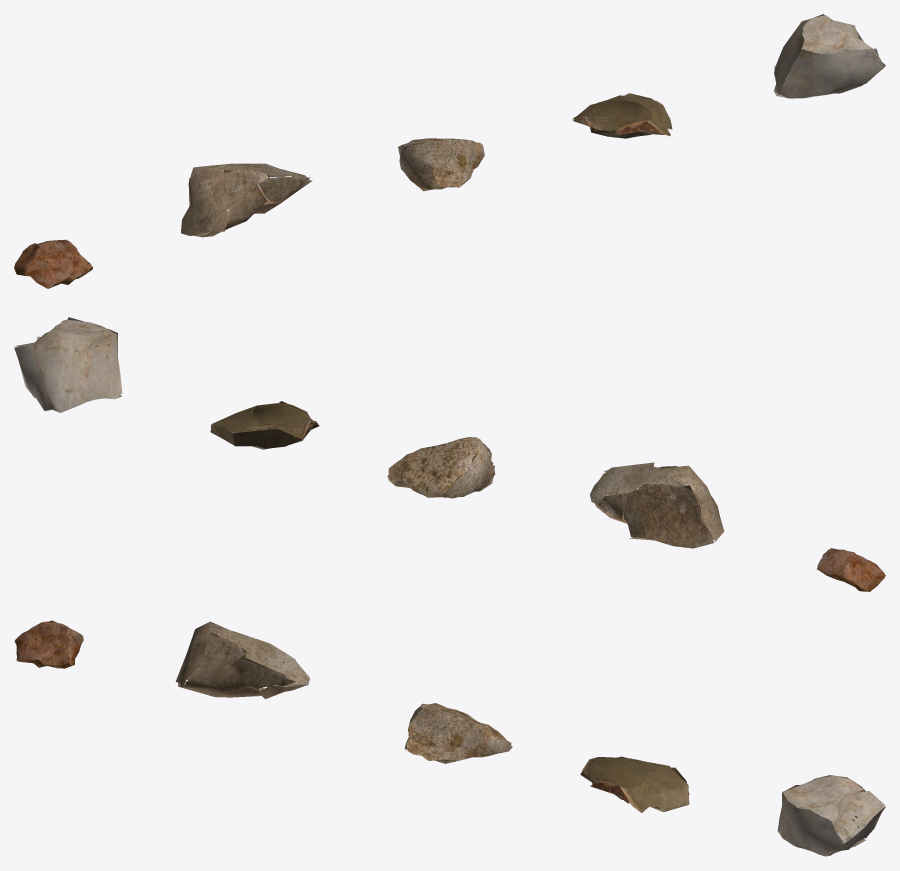
File: namaqualand_stones_01_lod1.glb
3 views of the same model, one above another, from view 1: azimuth 30°, elevation 25°; view 2: azimuth 150°, elevation 25°; view 3: azimuth 330°, elevation 25° (orthographic).
Visible parts, largest first — view 1: namaqualand_stones_01_e, namaqualand_stones_01_b, namaqualand_stones_01_c, namaqualand_stones_01_d, namaqualand_stones_01_a; view 2: namaqualand_stones_01_b, namaqualand_stones_01_e, namaqualand_stones_01_c, namaqualand_stones_01_d, namaqualand_stones_01_a; view 3: namaqualand_stones_01_b, namaqualand_stones_01_e, namaqualand_stones_01_c, namaqualand_stones_01_d, namaqualand_stones_01_a.
Part boxes in pixels (<box>): namaqualand_stones_01_e: <box>773,14,885,98</box>; namaqualand_stones_01_b: <box>181,163,312,237</box>; namaqualand_stones_01_c: <box>398,138,484,191</box>; namaqualand_stones_01_d: <box>572,93,672,138</box>; namaqualand_stones_01_a: <box>14,239,92,288</box>; namaqualand_stones_01_b: <box>590,462,724,548</box>; namaqualand_stones_01_e: <box>14,317,122,412</box>; namaqualand_stones_01_c: <box>387,437,495,498</box>; namaqualand_stones_01_d: <box>210,401,319,449</box>; namaqualand_stones_01_a: <box>816,548,885,591</box>; namaqualand_stones_01_b: <box>175,621,309,699</box>; namaqualand_stones_01_e: <box>777,775,885,856</box>; namaqualand_stones_01_c: <box>404,703,512,763</box>; namaqualand_stones_01_d: <box>580,756,689,812</box>; namaqualand_stones_01_a: <box>14,620,83,668</box>.
Bounding box in the file's own units: 1.02 × 0.0825 × 0.1135.
Materials: 1 (1 with a texture image).
